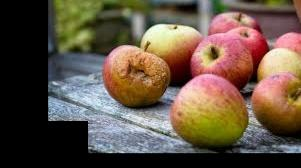rotten apple: (95, 41, 173, 111)
